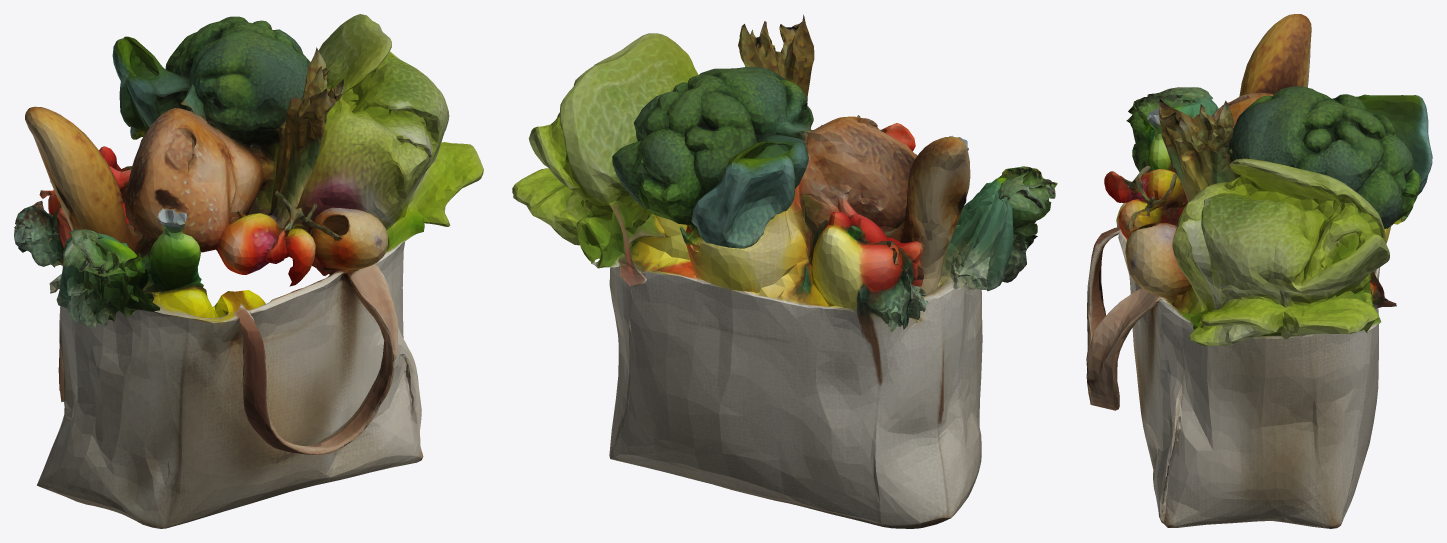
File: groceries.glb
The picture shows the model from 3 angles, left to right: view 1: azimuth 30°, elevation 25°; view 2: azimuth 150°, elevation 25°; view 3: azimuth 270°, elevation 25°; orthographic projection. The views are drawn at different scales.
Parts seen in each view (by area): view 1: world; view 2: world; view 3: world.
Part boxes in pixels (x1,y1,x2,y2): world: [14, 14, 483, 528]; world: [512, 14, 1057, 528]; world: [1086, 14, 1432, 528].
Bounding box in the file's own units: 0.8944 × 0.8055 × 0.6315.
1 material, 1 textured.
